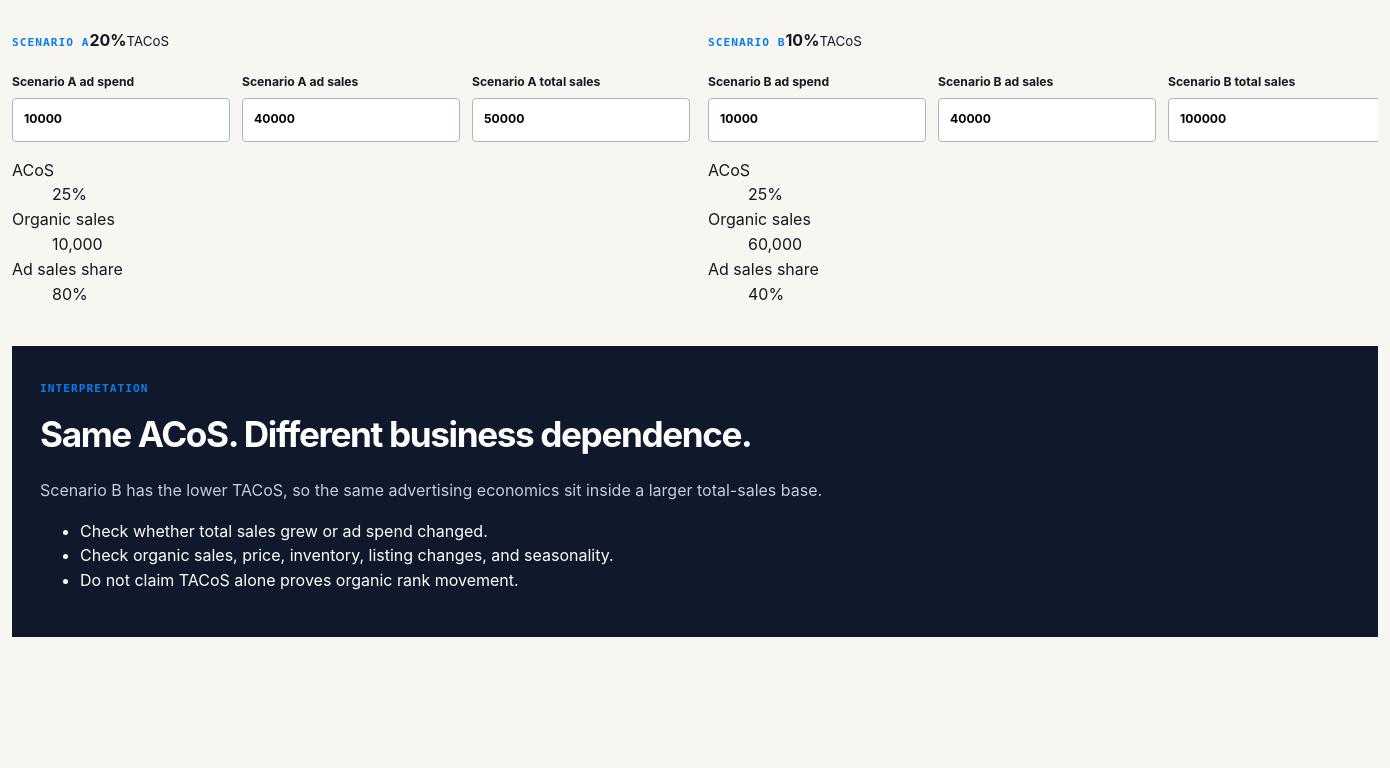
Test: TacosCalculator › recalculates when total sales change
The image size is (1390, 768).
Replace the text in the number field labelled "Scenario A total sales" with "100000" at {"x": 581, "y": 120}, box 472,98 -> 690,142
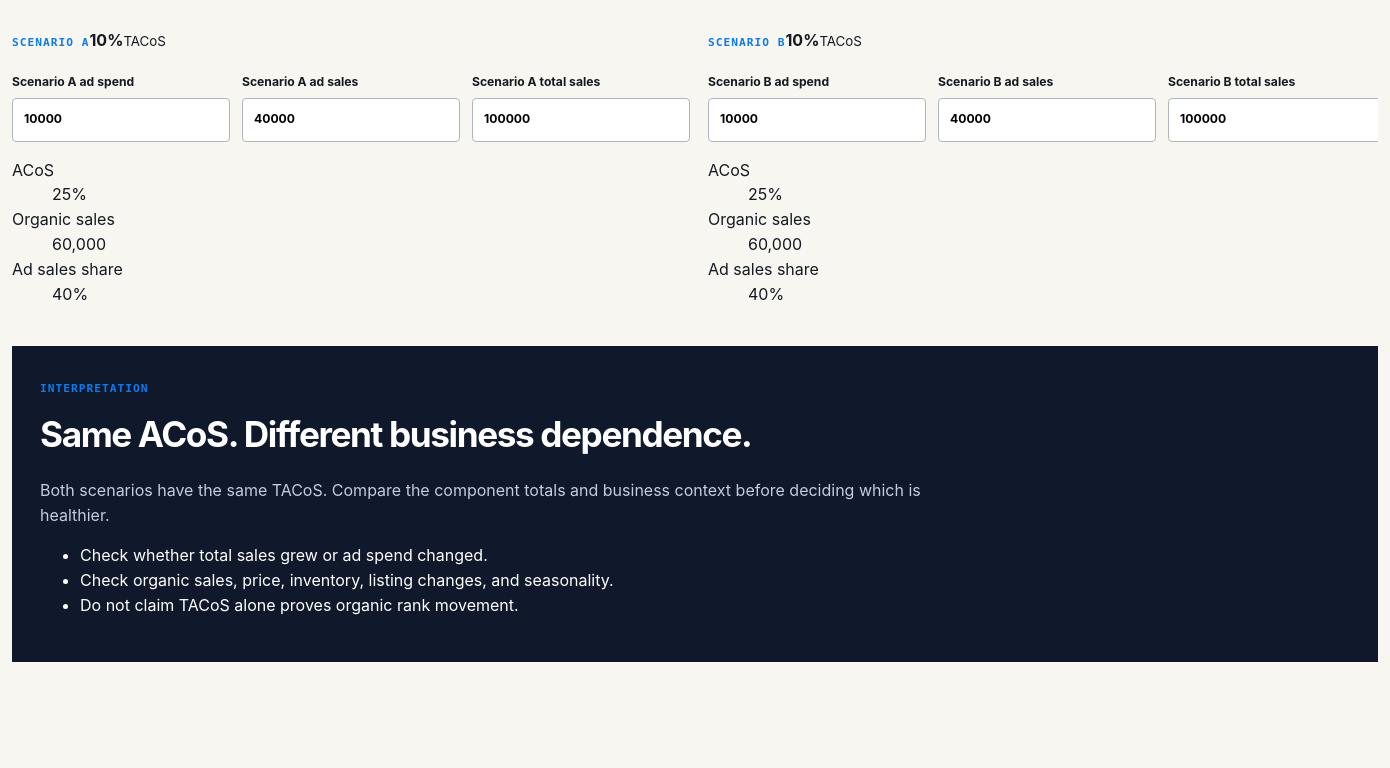
Expected: the text "10%" is shown 2 times, 89,30 -> 123,50; 785,30 -> 819,50
Now the text "Both scenarios have the same TACoS" is shown, box 40,480 -> 921,525
